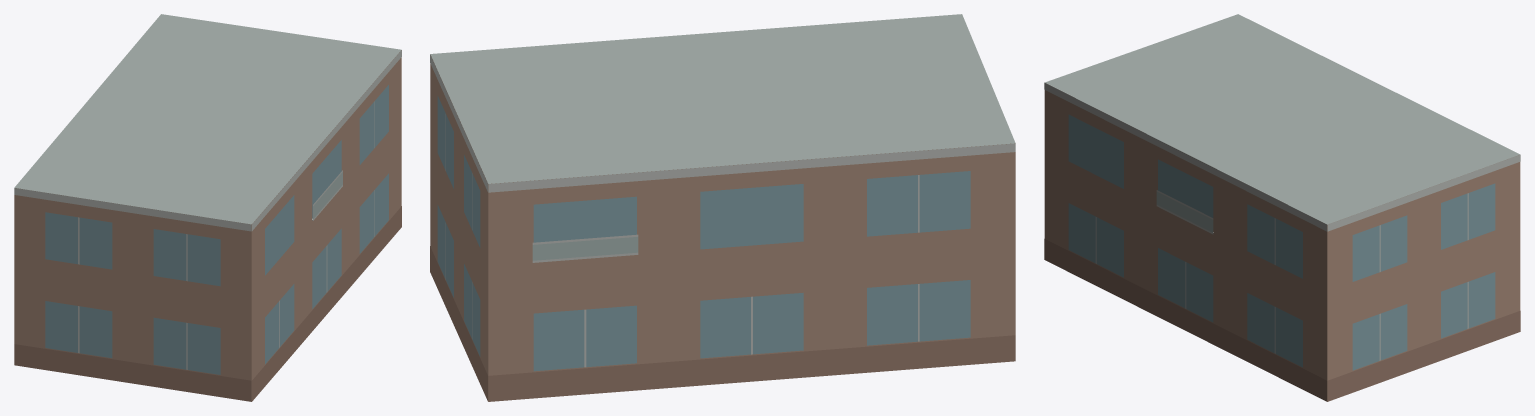
Rendered from survey-upis-32922080.glb.
3 views of the same model, side by side, from view 1: azimuth 30°, elevation 25°; view 2: azimuth 150°, elevation 25°; view 3: azimuth 270°, elevation 25° (orthographic). The views are drawn at different scales.
Visible parts, largest first — view 1: survey-upis-32922080.tmp; view 2: survey-upis-32922080.tmp; view 3: survey-upis-32922080.tmp.
Boxes of the visible parts, left/top/right/bottom form: survey-upis-32922080.tmp: left=14, top=14, right=401, bottom=401; survey-upis-32922080.tmp: left=430, top=14, right=1015, bottom=401; survey-upis-32922080.tmp: left=1044, top=14, right=1520, bottom=401.
Size of the model in its own units: 15.56 by 6.1 by 14.86.
